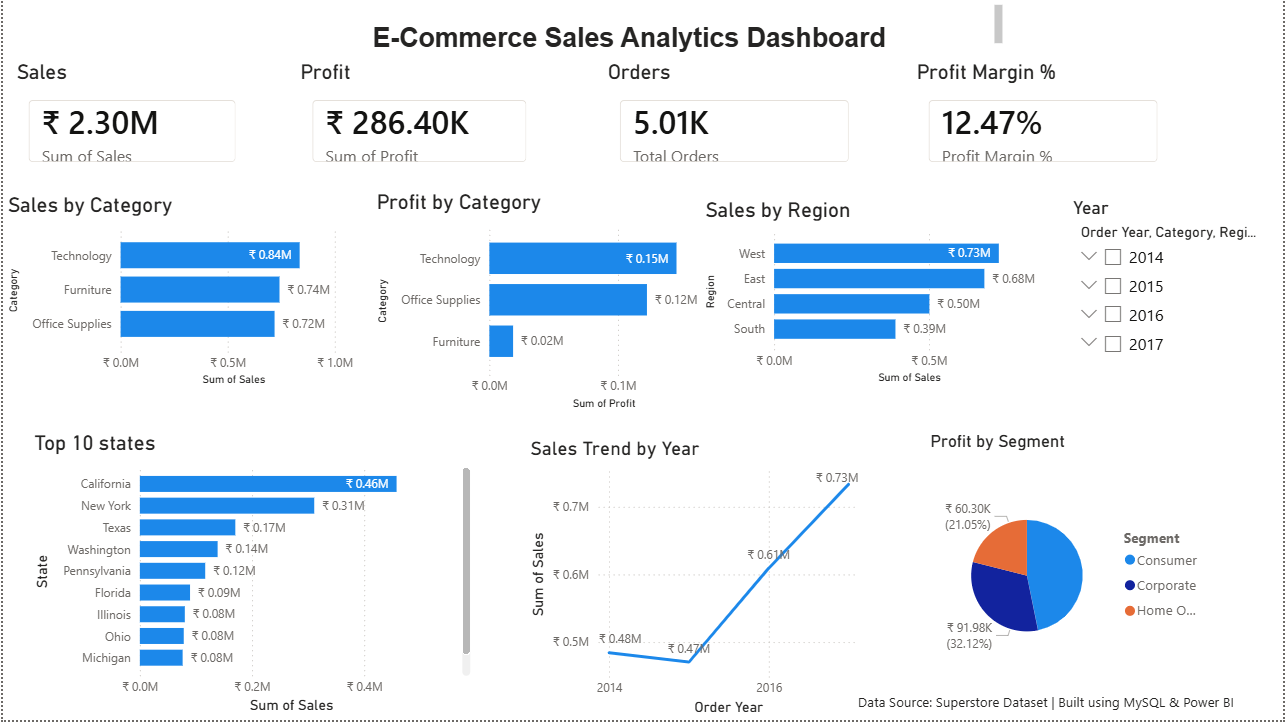

Layout of this report page (visuals, bound fields, positions):
{"tool":"powerbi","page":{"name":"Executive Dashboard","canvas":[1280,720],"ordinal":0},"visuals":[{"type":"lineChart","title":"Sales Trend by Year","fields":{"Y":["Sum(ecommerce_sales superstore.Sales)"],"Category":["ecommerce_sales superstore.Order Year"]},"box":[522.5,437.5,341.2,282.5],"z":0},{"type":"cardVisual","title":"Sales","fields":{"Data":["Sum(ecommerce_sales superstore.Sales)"]},"box":[8.8,60,241.2,120],"z":1000},{"type":"cardVisual","title":"Profit","fields":{"Data":["Sum(ecommerce_sales superstore.Profit)"]},"box":[292.5,60,248.8,120],"z":2000},{"type":"cardVisual","title":"Orders","fields":{"Data":["ecommerce_sales superstore.Total Orders"]},"box":[600,60,263.8,120],"z":3000},{"type":"cardVisual","title":"Profit Margin %","fields":{"Data":["ecommerce_sales superstore.Profit Margin %"]},"box":[908.8,60,263.8,120],"z":4000},{"type":"clusteredBarChart","title":"Sales by Category","fields":{"Category":["ecommerce_sales superstore.Category"],"Y":["Sum(ecommerce_sales superstore.Sales)"]},"box":[0,192.9,368.6,198.6],"z":5000},{"type":"clusteredBarChart","title":"Profit by Category","fields":{"Category":["ecommerce_sales superstore.Category"],"Y":["Sum(ecommerce_sales superstore.Profit)"]},"box":[368.6,190,371.4,224.3],"z":6000},{"type":"clusteredBarChart","title":"Sales by Region","fields":{"Category":["ecommerce_sales superstore.Region"],"Y":["Sum(ecommerce_sales superstore.Sales)"]},"box":[697.5,197.5,368.8,191.2],"z":7000},{"type":"clusteredBarChart","title":"Top 10 states","fields":{"Category":["ecommerce_sales superstore.State"],"Y":["Sum(ecommerce_sales superstore.Sales)"]},"box":[26.2,431.2,446.2,287.5],"z":9000},{"type":"pieChart","title":"Profit by Segment","fields":{"Category":["ecommerce_sales superstore.Segment"],"Y":["Sum(ecommerce_sales superstore.Profit)"]},"box":[922.5,431.2,286.2,270],"z":10000},{"type":"slicer","title":"Year","fields":{"Values":["ecommerce_sales superstore.Order Year","ecommerce_sales superstore.Category","ecommerce_sales superstore.Region"]},"box":[1065,197.5,215,263.8],"z":12000},{"type":"textbox","box":[195.7,0,808.6,60],"z":13000},{"type":"textbox","box":[850,687.5,430,32.5],"z":13001}]}

Visuals, with their boxes in screenshot pixels (x1, y1, x2, y2), scaled from the page's 1280x720 canvas onto the 1286x725 screenshot:
"Sales Trend by Year" lineChart: [525,441,868,724]
"Sales" cardVisual: [9,60,251,181]
"Profit" cardVisual: [294,60,544,181]
"Orders" cardVisual: [603,60,868,181]
"Profit Margin %" cardVisual: [913,60,1178,181]
"Sales by Category" clusteredBarChart: [0,194,370,394]
"Profit by Category" clusteredBarChart: [370,191,743,417]
"Sales by Region" clusteredBarChart: [701,199,1071,391]
"Top 10 states" clusteredBarChart: [26,434,475,724]
"Profit by Segment" pieChart: [927,434,1214,706]
"Year" slicer: [1070,199,1285,465]
textbox: [197,0,1009,60]
textbox: [854,692,1285,724]
